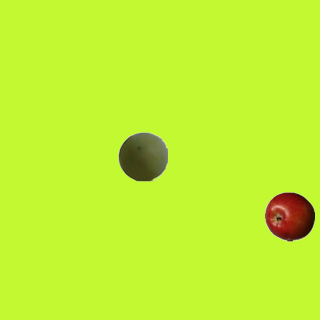Apple Braeburn: (264, 191, 314, 241)
Grape White 4: (117, 131, 167, 181)
